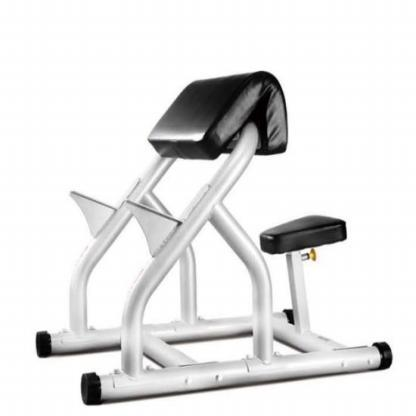arm curl machine: (37, 71, 394, 407)
